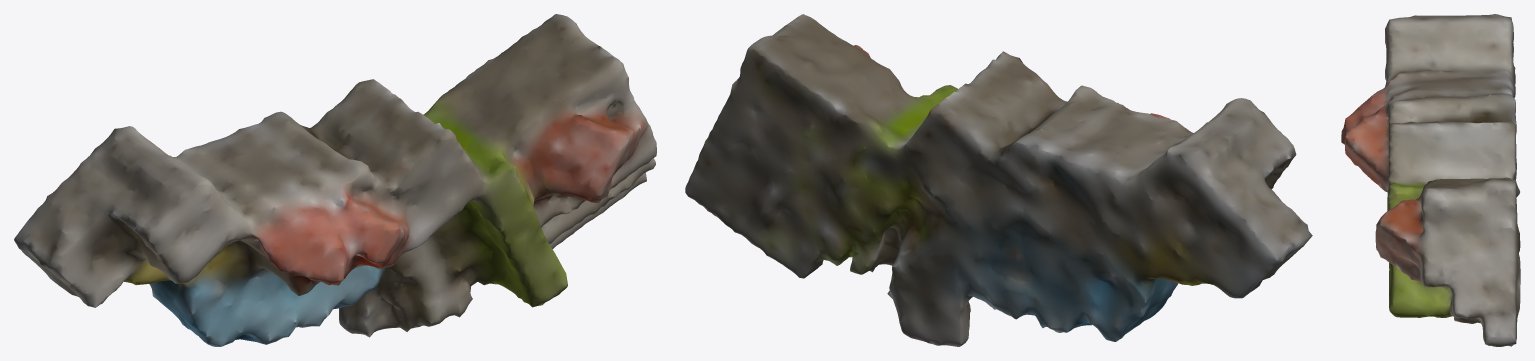
Rendered from blocks.glb.
The picture shows the model from 3 angles, left to right: view 1: azimuth 30°, elevation 25°; view 2: azimuth 150°, elevation 25°; view 3: azimuth 270°, elevation 25°; orthographic projection. The views are drawn at different scales.
Bounding box in the file's own units: 0.9946 × 0.4095 × 0.3189.
